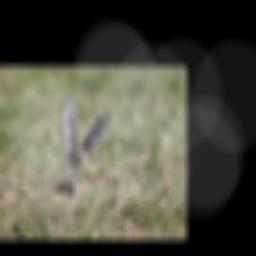Swallow: (52, 92, 111, 197)
